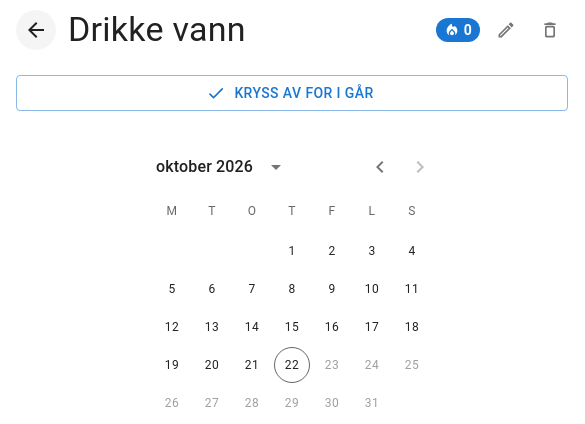
Test: HabitDetailPage › check in for yesterday › checks the habit in for yesterday and hides the button afterwards
Click the button "Kryss av for i går" at x=292, y=93, box 16,75 -> 568,112
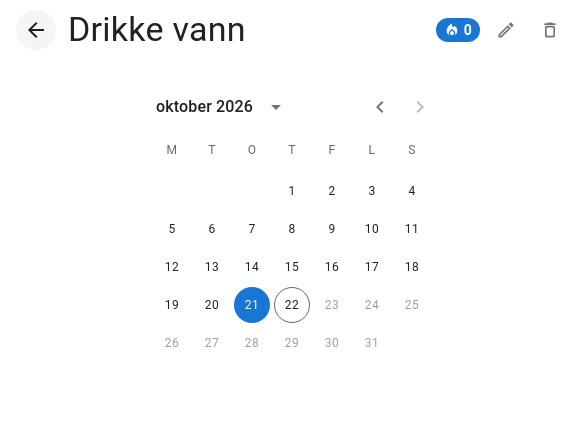
Expected: the button "Kryss av for i går" is gone
